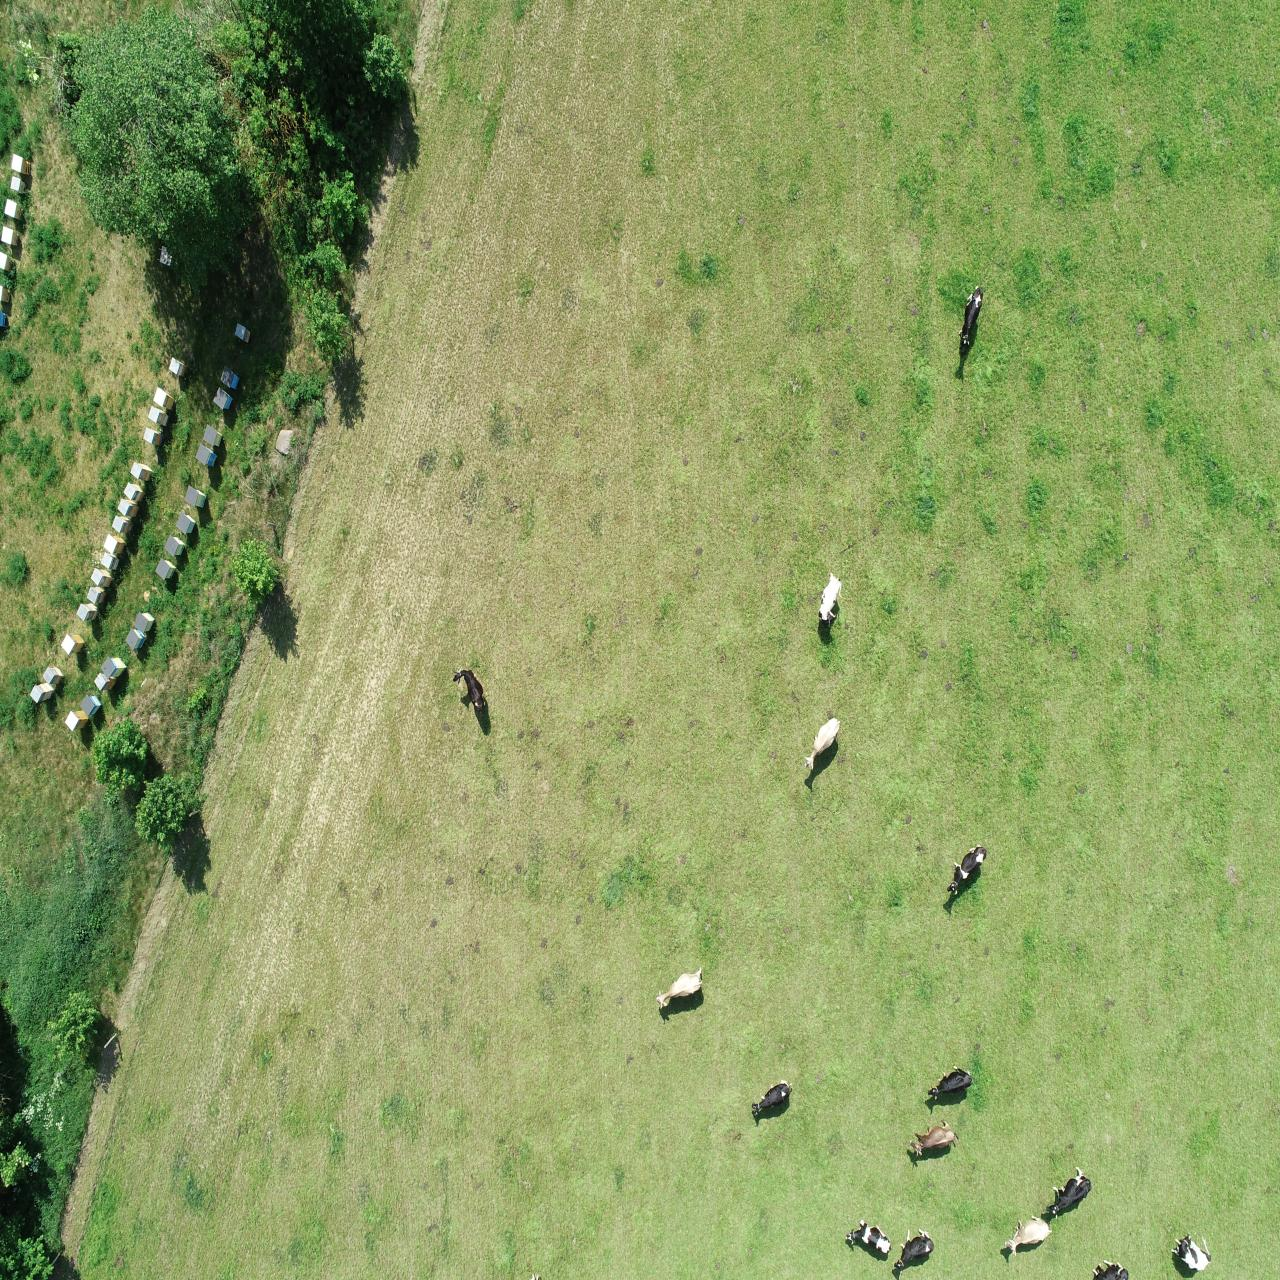cow: (1043, 1164, 1094, 1223), (944, 842, 988, 899), (802, 714, 843, 775), (1002, 1211, 1054, 1257), (652, 965, 706, 1008), (908, 1118, 960, 1163), (888, 1226, 935, 1272), (843, 1217, 892, 1260), (1169, 1228, 1213, 1275), (925, 1062, 974, 1104), (815, 567, 846, 632), (450, 665, 489, 716), (749, 1076, 794, 1121), (956, 282, 986, 349)
